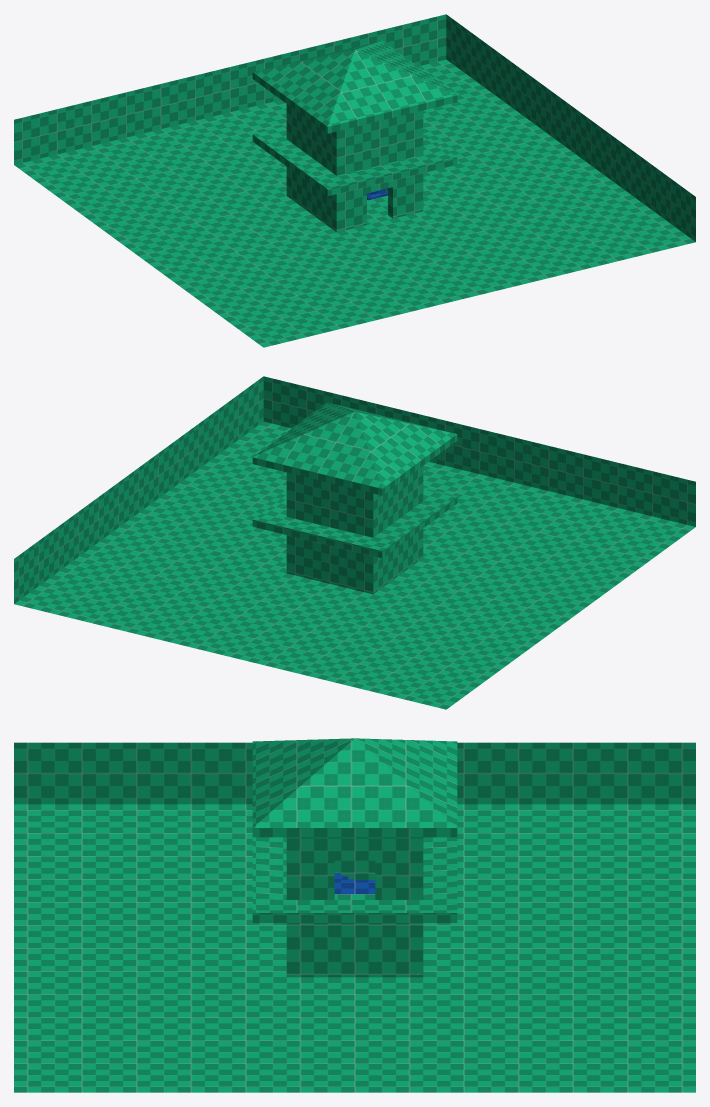
File: Campaign1.glb
The picture shows the model from 3 angles, top to bottom: view 1: azimuth 30°, elevation 25°; view 2: azimuth 150°, elevation 25°; view 3: azimuth 270°, elevation 25°; orthographic projection. The views are drawn at different scales.
Parts seen in each view (by area): view 1: Floor-col, Walls-col; view 2: Floor-col, Walls-col; view 3: Floor-col, Walls-col, Stairs.
Part boxes in pixels (x1,y1,x2,y2): Floor-col: [14, 14, 695, 347]; Walls-col: [252, 40, 457, 232]; Floor-col: [14, 376, 695, 709]; Walls-col: [252, 402, 457, 594]; Floor-col: [14, 742, 695, 1092]; Walls-col: [252, 738, 457, 977]; Stairs: [334, 873, 375, 894].
Size of what is drawn, in the model's own units: 50 by 17 by 50.
2 materials, 2 textured.
